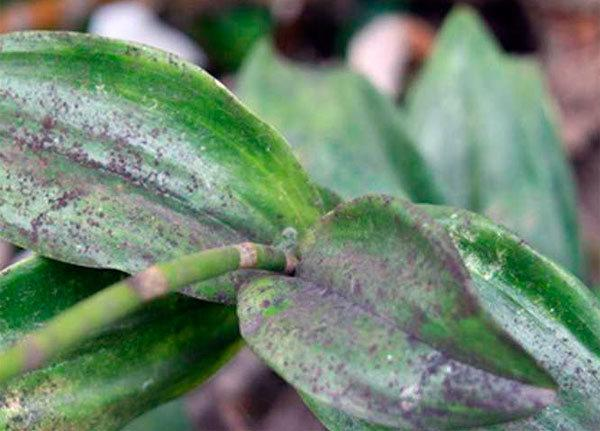soot dew: (1, 32, 332, 271), (238, 196, 553, 430)
